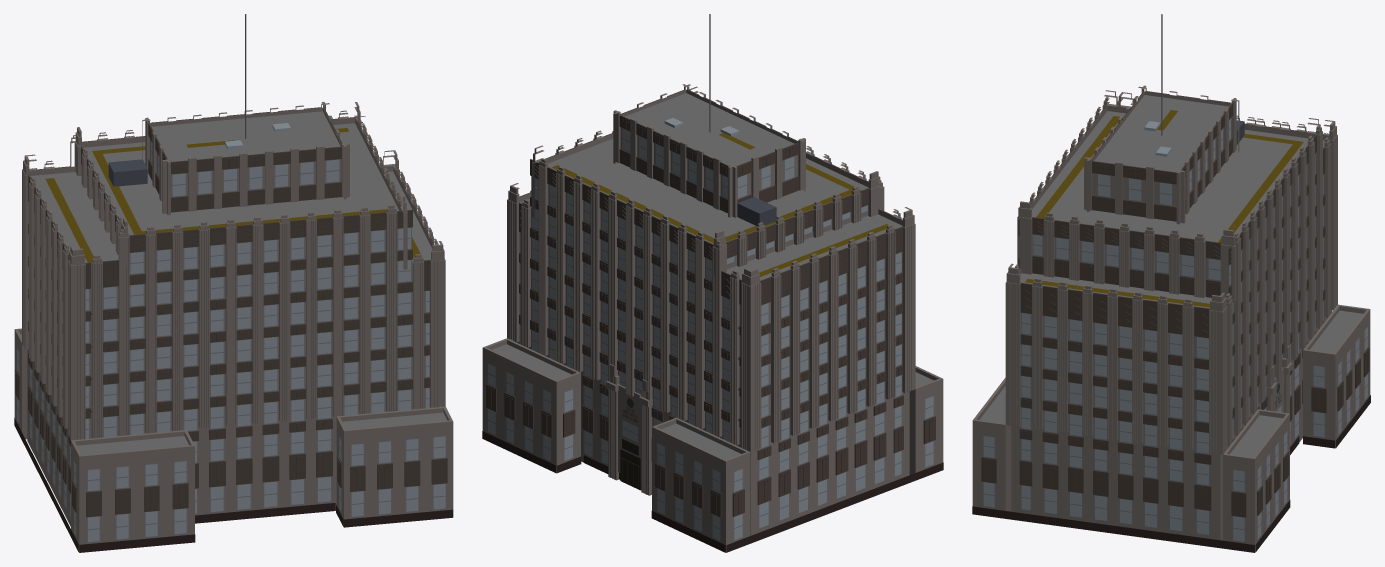
3 views of the same model, side by side, from view 1: azimuth 30°, elevation 25°; view 2: azimuth 150°, elevation 25°; view 3: azimuth 270°, elevation 25° (orthographic). The views are drawn at different scales.
Parts seen in each view (by area): view 1: opaque, glass; view 2: opaque, glass; view 3: opaque, glass.
Boxes of the visible parts, left/top/right/bottom form: opaque: left=14, top=14, right=453, bottom=552; glass: left=17, top=123, right=445, bottom=541; opaque: left=482, top=14, right=943, bottom=552; glass: left=488, top=118, right=933, bottom=540; opaque: left=972, top=14, right=1370, bottom=552; glass: left=983, top=118, right=1367, bottom=541.
Bounding box in the file's own units: 45.97 × 50.6 × 40.87.
2 materials, 1 textured.
